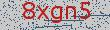5: (76, 1, 94, 26)
8: (20, 1, 37, 24)
g: (48, 4, 65, 28)
n: (64, 3, 78, 28)
x: (36, 1, 50, 27)
